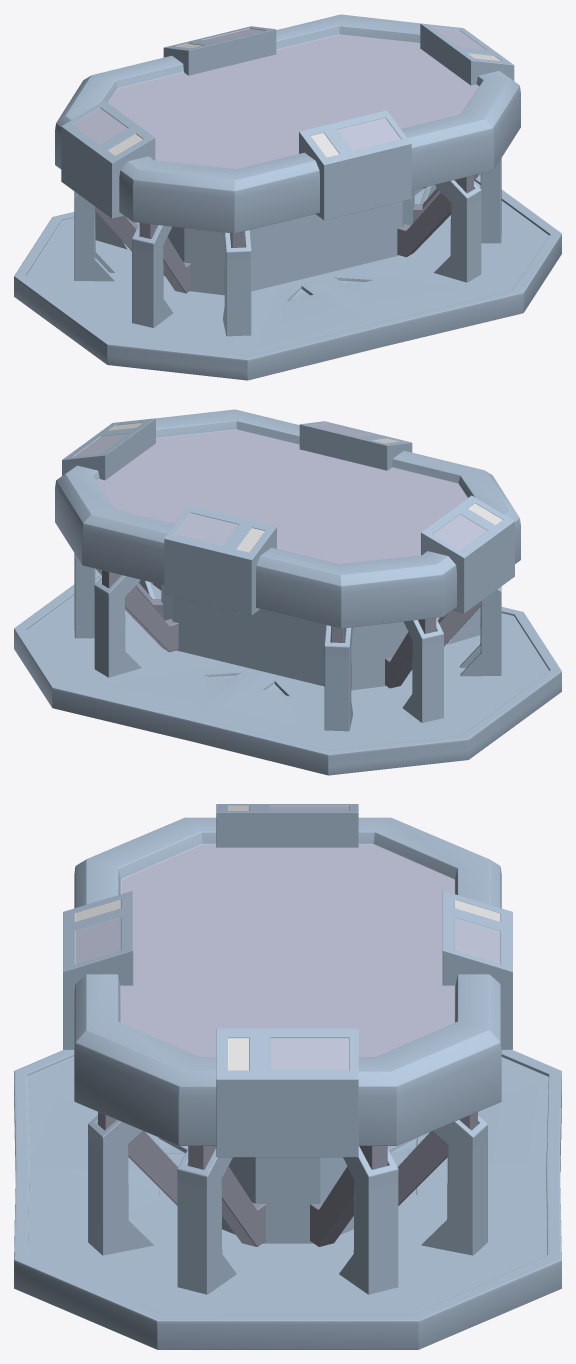
Rendered from Table_01 1.fbx.
The picture shows the model from 3 angles, top to bottom: view 1: azimuth 30°, elevation 25°; view 2: azimuth 150°, elevation 25°; view 3: azimuth 270°, elevation 25°; orthographic projection. The views are drawn at different scales.
Visible parts, largest first — view 1: Table; view 2: Table; view 3: Table.
Boxes of the visible parts, box(x1,y1,x2,y2) form: Table: box(14, 14, 561, 380); Table: box(14, 409, 561, 775); Table: box(14, 804, 561, 1349).
Bounding box in the file's own units: 298 × 122 × 222.
